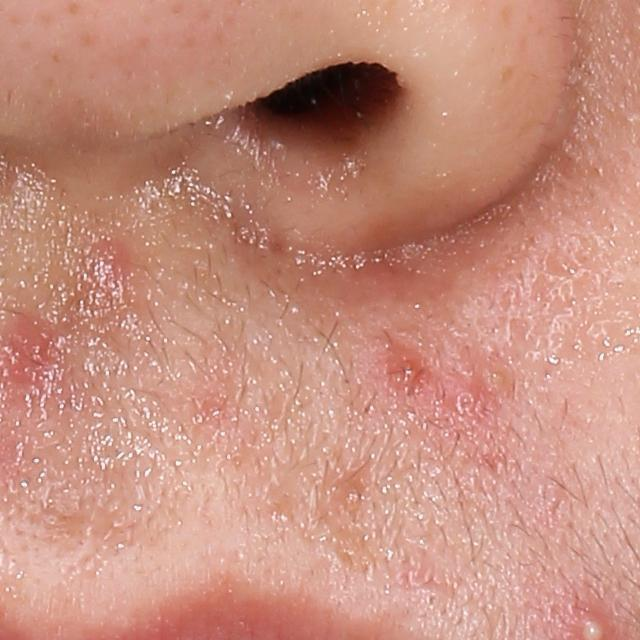comedo: (450, 386, 488, 422)
papule: (79, 245, 134, 298), (2, 326, 49, 388), (384, 352, 422, 392)
